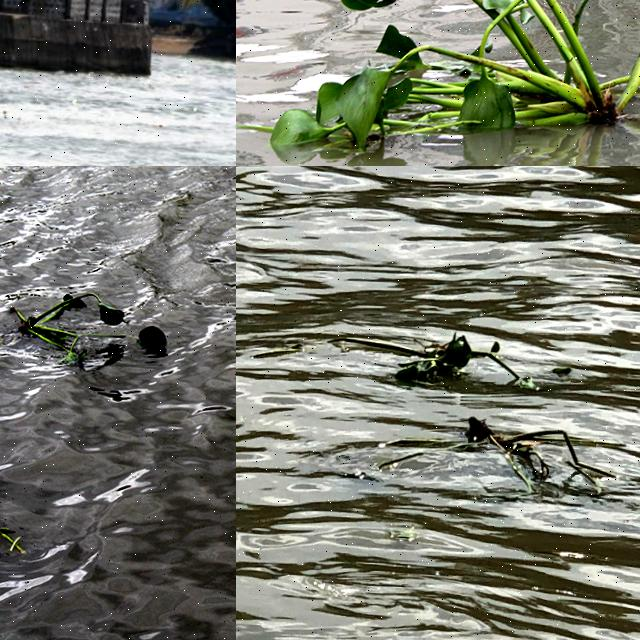water-hyacinth: (263, 1, 640, 162), (443, 406, 638, 508), (1, 290, 174, 370), (385, 331, 565, 391)
